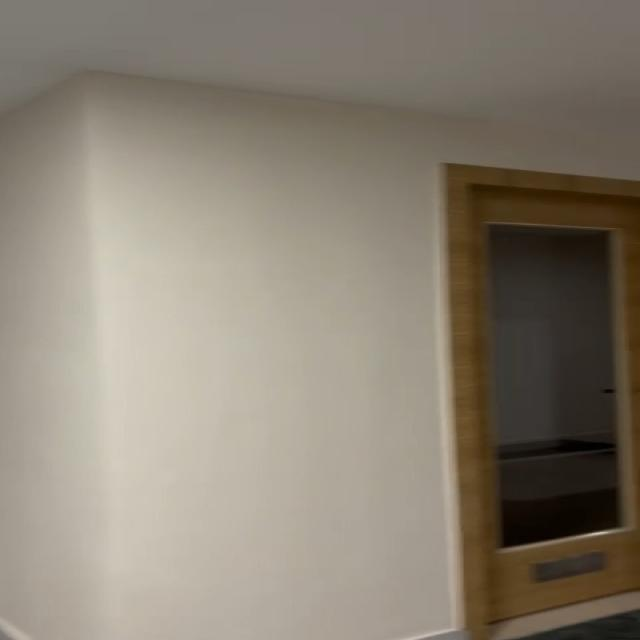door: (435, 165, 640, 611)
wall: (0, 71, 445, 640)
